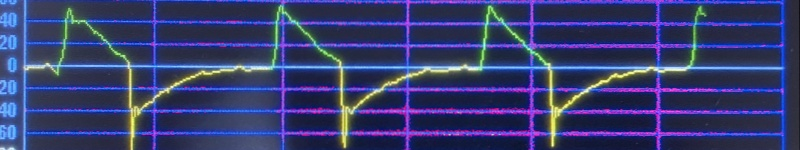normal_flow: (24, 0, 708, 150)
